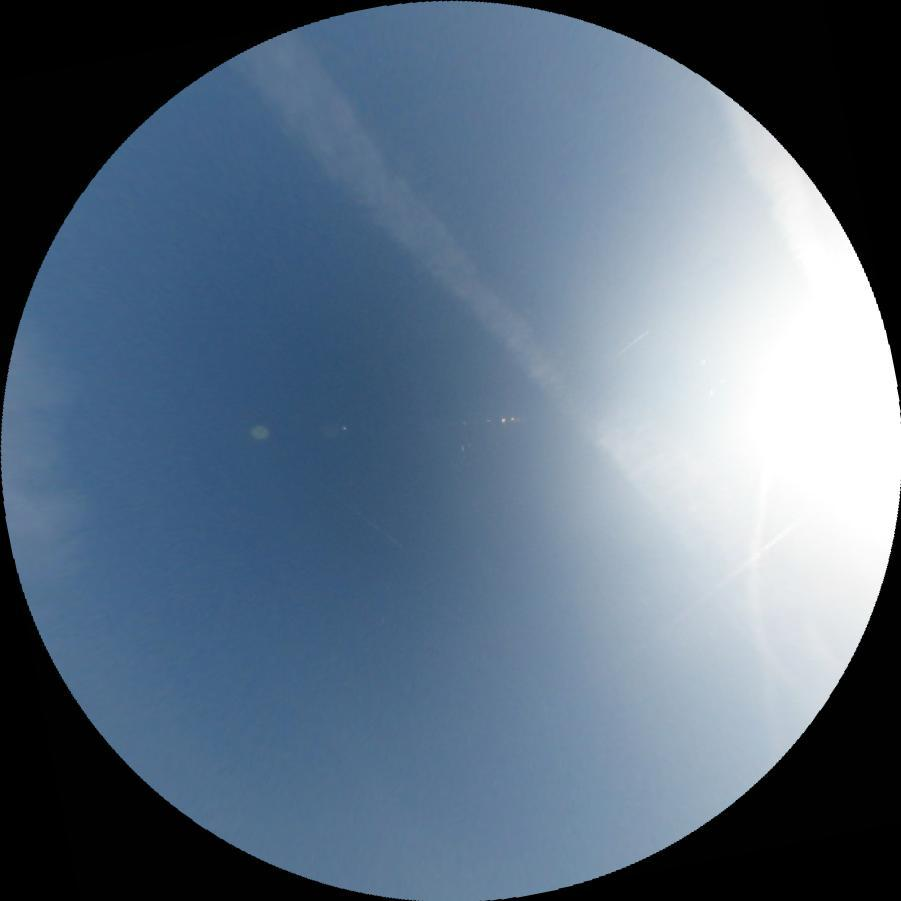contrail old: (743, 466, 783, 756)
contrail veryold: (224, 5, 879, 714), (713, 72, 870, 314)
contrail young: (644, 524, 795, 644), (335, 492, 403, 548), (610, 328, 649, 360)
sun: (750, 318, 901, 514)
